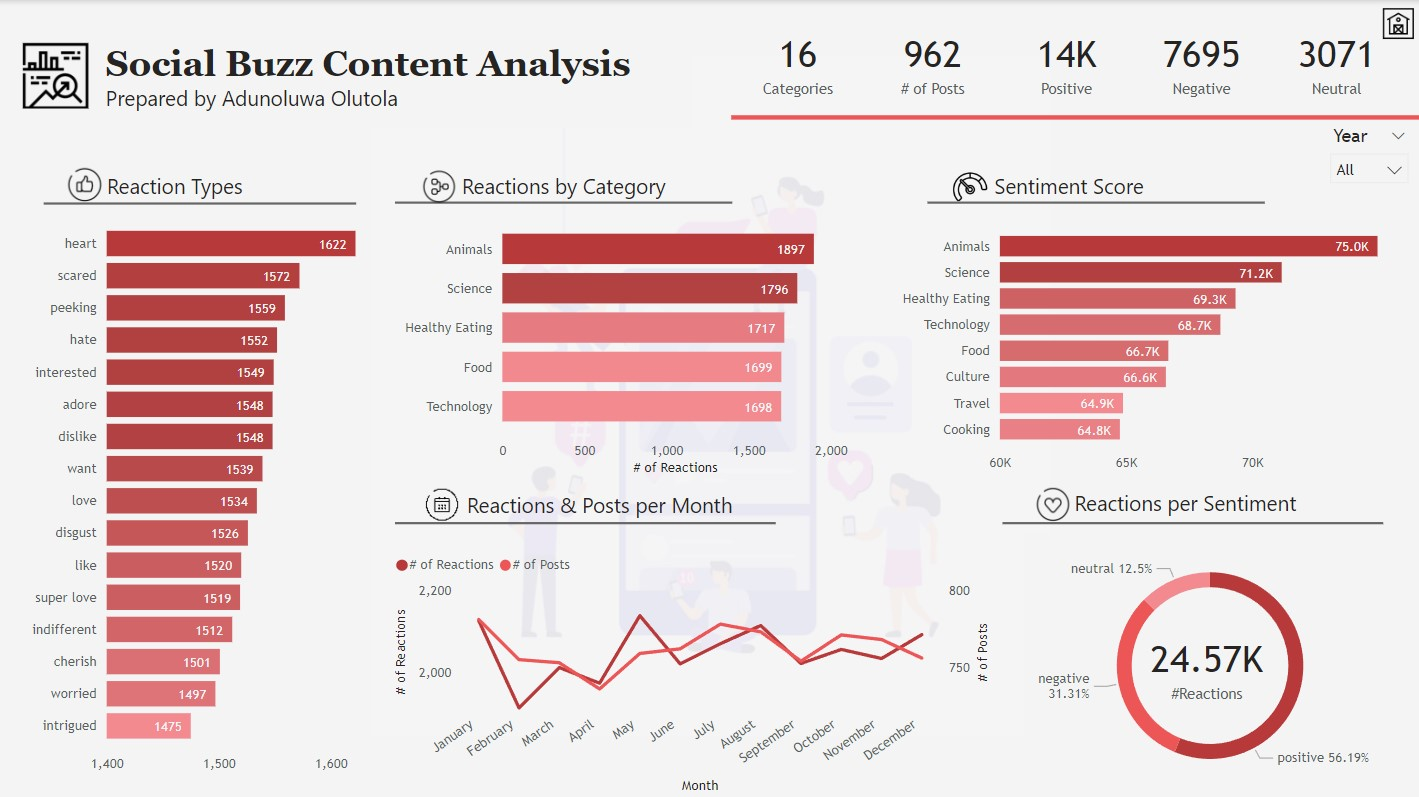

Layout of this report page (visuals, bound fields, positions):
{"tool":"powerbi","page":{"name":"Page 1","canvas":[1280,720],"ordinal":0},"visuals":[{"type":"textbox","box":[411.4,149.8,202.9,43.1],"z":0,"group":"g9"},{"type":"textbox","box":[91.9,150.3,143.1,43.1],"z":0,"group":"g4"},{"type":"textbox","box":[891.4,150.3,202.9,43.1],"z":0,"group":"g6"},{"type":"barChart","fields":{"Category":["Reactions (1).Category"],"Y":["Sum(Reactions (1).Score)"]},"box":[805,190,452.5,242.5],"z":0},{"type":"textbox","box":[963,436.6,267.5,37.5],"z":0,"group":"g1"},{"type":"textbox","box":[415.4,437.5,267.5,37.5],"z":0,"group":"g10"},{"type":"shape","box":[903.8,461.6,343.3,19.2],"z":0,"group":"g8"},{"type":"clusteredBarChart","fields":{"Category":["Reactions (1).Type","Reactions (1).Sentiment"],"Y":["CountNonNull(Reactions (1).Content ID)"]},"box":[19.8,183.9,320,521.3],"z":1000},{"type":"group","id":"g1","title":"Group 2","box":[963,436.6,267.5,37.5],"z":1000,"group":"g8"},{"type":"donutChart","fields":{"Category":["Reactions (1).Sentiment"],"Y":["CountNonNull(Reactions (1).Content ID)"]},"box":[923.8,480,333.8,240],"z":1000,"group":"g2"},{"type":"image","box":[845,146.4,58.3,43.3],"z":2000,"group":"g6"},{"type":"image","box":[917,435,63,40],"z":2000,"group":"g8"},{"type":"lineChart","fields":{"Category":["Reactions (1).Date.Variation.Date Hierarchy.Month"],"Y":["CountNonNull(Reactions (1).Content ID)"],"Y2":["Calculations.# of Posts"]},"box":[351.2,490,546.2,230],"z":2000},{"type":"card","fields":{"Values":["Calculations.Positive"]},"box":[901.4,15.9,120,80],"z":3000,"group":"g7"},{"type":"clusteredBarChart","fields":{"Category":["Reactions (1).Category"],"Y":["CountNonNull(Reactions (1).Content ID)"]},"box":[356.1,183.9,429.4,249],"z":3000},{"type":"card","fields":{"Values":["Calculations.Negative"]},"box":[1022.7,15.9,120,80],"z":4000,"group":"g7"},{"type":"shape","box":[658.8,95,621.2,22.5],"z":4000},{"type":"card","fields":{"Values":["Calculations.Neutral"]},"box":[1144,15.9,120,80],"z":5000,"group":"g7"},{"type":"textbox","box":[90,33.8,533.8,81.2],"z":5000},{"type":"group","id":"g2","title":"Group 1","box":[923.8,480,333.8,240],"z":6000},{"type":"card","fields":{"Values":["Calculations.# of Posts"]},"box":[780.1,15.9,120,80],"z":7000,"group":"g7"},{"type":"image","box":[10.5,33.7,79.1,68.7],"z":7000},{"type":"card","fields":{"Values":["Count(Reactions (1).Category)"]},"box":[658.8,15.9,120,80],"z":8000,"group":"g7"},{"type":"group","id":"g3","title":"Group 3","box":[356.2,145.9,303.8,47.5],"z":8000},{"type":"group","id":"g4","title":"Group 4","box":[39.6,146.4,281.6,47],"z":9000},{"type":"group","id":"g5","title":"Group 5","box":[356.2,435,343.3,46.7],"z":10000},{"type":"group","id":"g6","title":"Group 6","box":[836.2,146.4,303.7,47],"z":11000},{"type":"card","fields":{"Values":["CountNonNull(Reactions (1).Content ID)"]},"box":[1012,557.7,152.4,87.2],"z":11000,"group":"g2"},{"type":"group","id":"g7","title":"Group 7","box":[658.8,15.9,605,80],"z":12000},{"type":"group","id":"g8","title":"Group 8","box":[903.8,435,343.3,45.8],"z":13000},{"type":"slicer","fields":{"Values":["Reactions (1).Date.Variation.Date Hierarchy.Year"]},"box":[1189.2,108.2,90.8,64],"z":14000},{"type":"shape","box":[39.6,174.5,281.6,17.5],"z":14000,"group":"g4"},{"type":"image","box":[1242,0,38,42.9],"z":15000},{"type":"shape","box":[356.2,174.6,303.7,16.3],"z":16000,"group":"g3"},{"type":"shape","box":[836.2,175.1,303.7,16.3],"z":16000,"group":"g6"},{"type":"group","id":"g9","title":"Group 2","box":[411.4,149.8,202.9,43.1],"z":17000,"group":"g3"},{"type":"shape","box":[356.2,462.5,343.3,19.2],"z":17000,"group":"g5"},{"type":"image","box":[50,146.4,53.6,41.4],"z":18000,"group":"g4"},{"type":"group","id":"g10","title":"Group 2","box":[415.4,437.5,267.5,37.5],"z":18000,"group":"g5"},{"type":"image","box":[373,145.9,45.9,44.7],"z":18002,"group":"g3"},{"type":"image","box":[368.1,435,60.6,41.2],"z":19000,"group":"g5"}]}

Visuals, with their boxes in screenshot pixels (x1, y1, x2, y2), scaled from the page's 1280x720 canvas onto the 1419x797 screenshot:
textbox: [left=456, top=166, right=681, bottom=214]
textbox: [left=102, top=166, right=261, bottom=214]
textbox: [left=988, top=166, right=1213, bottom=214]
barChart - Reactions (1).Category x Sum(Reactions (1).Score): [left=892, top=210, right=1394, bottom=479]
textbox: [left=1068, top=483, right=1364, bottom=525]
textbox: [left=461, top=484, right=757, bottom=526]
shape: [left=1002, top=511, right=1383, bottom=532]
clusteredBarChart - Reactions (1).Type x Reactions (1).Sentiment: [left=22, top=204, right=377, bottom=781]
"Group 2" group: [left=1068, top=483, right=1364, bottom=525]
donutChart - Reactions (1).Sentiment x CountNonNull(Reactions (1).Content ID): [left=1024, top=531, right=1394, bottom=796]
image: [left=937, top=162, right=1001, bottom=210]
image: [left=1017, top=482, right=1086, bottom=526]
lineChart - Reactions (1).Date.Variation.Date Hierarchy.Month x CountNonNull(Reactions (1).Content ID): [left=389, top=542, right=995, bottom=796]
card - Calculations.Positive: [left=999, top=18, right=1132, bottom=106]
clusteredBarChart - Reactions (1).Category x CountNonNull(Reactions (1).Content ID): [left=395, top=204, right=871, bottom=479]
card - Calculations.Negative: [left=1134, top=18, right=1267, bottom=106]
shape: [left=730, top=105, right=1418, bottom=130]
card - Calculations.Neutral: [left=1268, top=18, right=1401, bottom=106]
textbox: [left=100, top=37, right=692, bottom=127]
"Group 1" group: [left=1024, top=531, right=1394, bottom=796]
card - Calculations.# of Posts: [left=865, top=18, right=998, bottom=106]
image: [left=12, top=37, right=99, bottom=113]
card - Count(Reactions (1).Category): [left=730, top=18, right=863, bottom=106]
"Group 3" group: [left=395, top=162, right=732, bottom=214]
"Group 4" group: [left=44, top=162, right=356, bottom=214]
"Group 5" group: [left=395, top=482, right=775, bottom=533]
"Group 6" group: [left=927, top=162, right=1264, bottom=214]
card - CountNonNull(Reactions (1).Content ID): [left=1122, top=617, right=1291, bottom=714]
"Group 7" group: [left=730, top=18, right=1401, bottom=106]
"Group 8" group: [left=1002, top=482, right=1383, bottom=532]
slicer - Reactions (1).Date.Variation.Date Hierarchy.Year: [left=1318, top=120, right=1418, bottom=191]
shape: [left=44, top=193, right=356, bottom=213]
image: [left=1377, top=0, right=1418, bottom=47]
shape: [left=395, top=193, right=732, bottom=211]
shape: [left=927, top=194, right=1264, bottom=212]
"Group 2" group: [left=456, top=166, right=681, bottom=214]
shape: [left=395, top=512, right=775, bottom=533]
image: [left=55, top=162, right=115, bottom=208]
"Group 2" group: [left=461, top=484, right=757, bottom=526]
image: [left=414, top=162, right=464, bottom=211]
image: [left=408, top=482, right=475, bottom=527]
